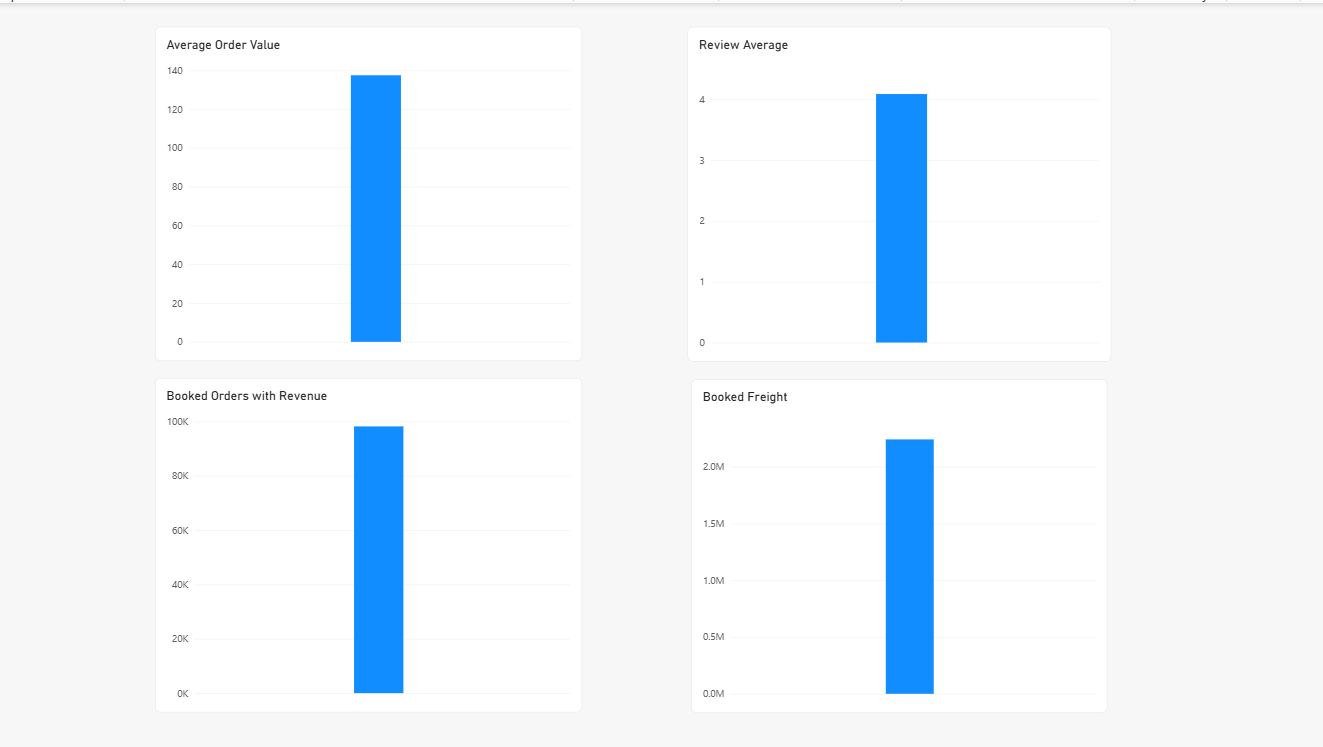

Layout of this report page (visuals, bound fields, positions):
{"tool":"powerbi","page":{"name":"Page 2","canvas":[1920,1080],"ordinal":1},"visuals":[{"type":"clusteredColumnChart","fields":{"Y":["fact_order_items.Average Order Value"]},"box":[224.4,35.1,618,484],"z":0},{"type":"clusteredColumnChart","fields":{"Y":["fact_order_items.Booked Orders with Revenue"]},"box":[224.4,543.6,618,484],"z":1},{"type":"clusteredColumnChart","fields":{"Y":["fact_reviews.Review Average"]},"box":[995.3,35.1,613.5,485],"z":2},{"type":"clusteredColumnChart","fields":{"Y":["fact_payments.Booked Freight"]},"box":[1000.7,545.4,602.6,483.2],"z":3}]}

Visuals, with their boxes in screenshot pixels (x1, y1, x2, y2), scaled from the page's 1920x1080 canvas onto the 1323x747 screenshot:
clusteredColumnChart - fact_order_items.Average Order Value: 155 24 580 359
clusteredColumnChart - fact_order_items.Booked Orders with Revenue: 155 376 580 711
clusteredColumnChart - fact_reviews.Review Average: 686 24 1109 360
clusteredColumnChart - fact_payments.Booked Freight: 690 377 1105 711
